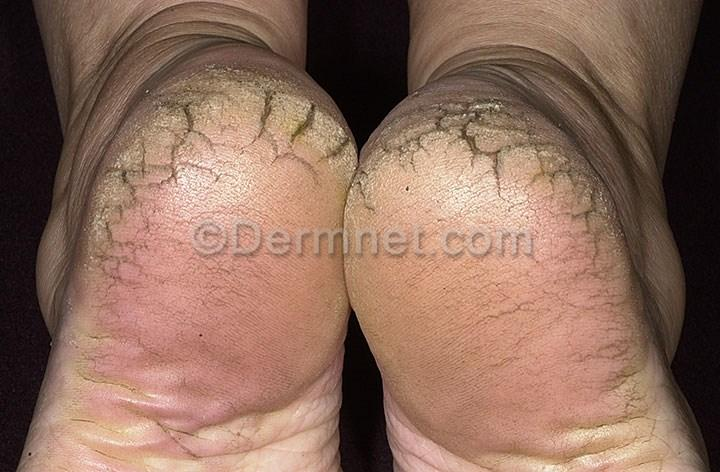Eczema: (113, 332, 271, 459), (417, 264, 546, 397), (74, 206, 205, 334), (553, 246, 645, 389), (421, 104, 527, 228), (231, 75, 329, 188), (276, 295, 357, 428), (203, 195, 275, 342), (524, 144, 611, 253), (336, 139, 427, 227), (94, 131, 201, 205), (625, 370, 701, 472), (139, 66, 243, 139), (272, 195, 339, 294)
